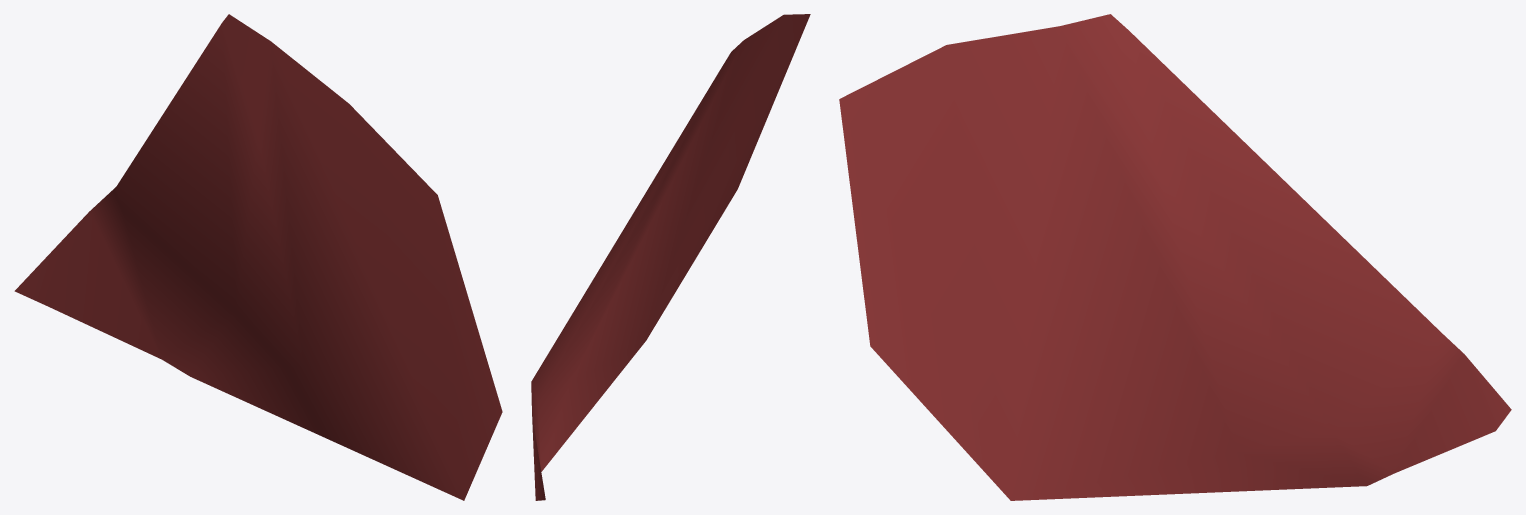
Rendered from splenius-colli-muscle-el.glb.
The picture shows the model from 3 angles, left to right: view 1: azimuth 30°, elevation 25°; view 2: azimuth 150°, elevation 25°; view 3: azimuth 270°, elevation 25°; orthographic projection. The views are drawn at different scales.
Visible parts, largest first — view 1: Splenius colli muscle.el; view 2: Splenius colli muscle.el; view 3: Splenius colli muscle.el.
Boxes of the visible parts, x1,y1,x2,y2 form: Splenius colli muscle.el: (14,14,502,500); Splenius colli muscle.el: (531,14,810,500); Splenius colli muscle.el: (839,14,1511,500).
Size of the model in its own units: 0.00061 by 0.00165 by 0.00237.
